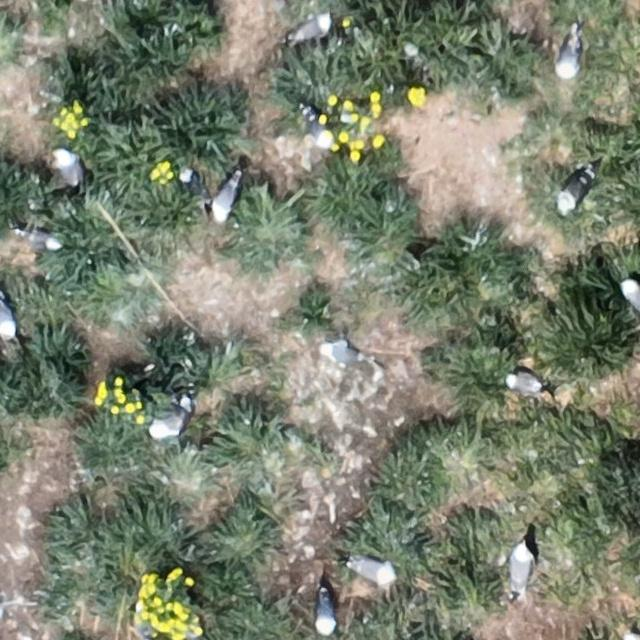umineko: (558, 169, 596, 215), (148, 409, 192, 441), (321, 339, 366, 366), (350, 560, 396, 584), (510, 546, 532, 594), (212, 179, 237, 218), (291, 15, 329, 40), (19, 228, 61, 250), (560, 34, 581, 75), (314, 593, 334, 634), (57, 152, 80, 186), (505, 373, 541, 394), (621, 281, 640, 313), (0, 298, 15, 338)
